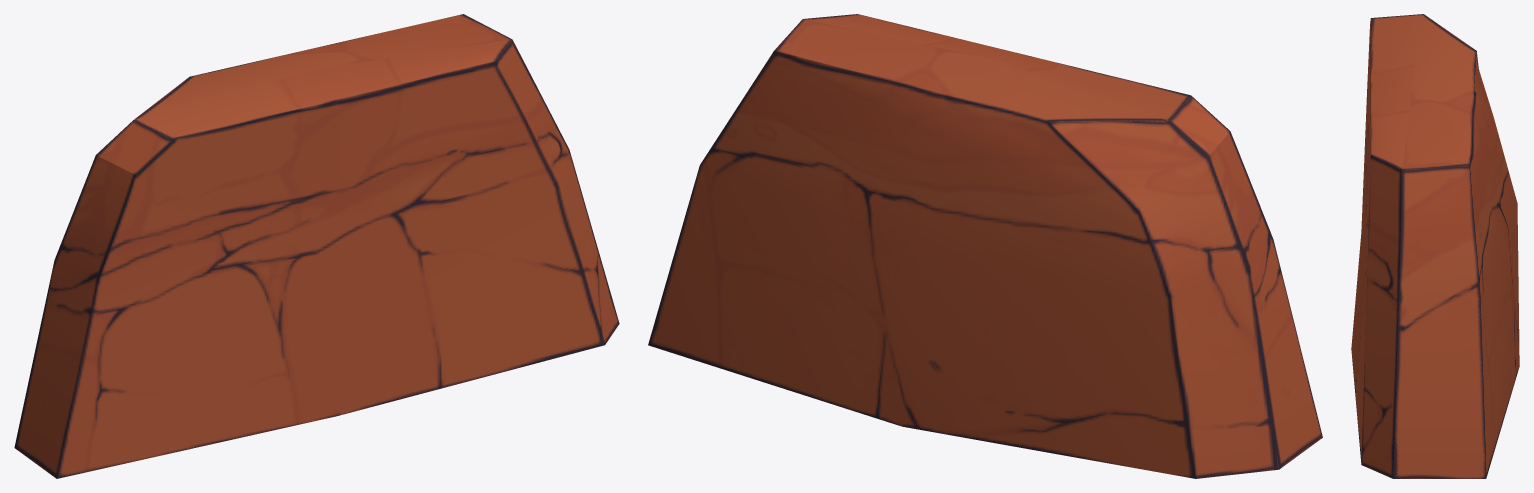
Rendered from SmallWall_3.fbx.
3 renders of one model, left to right at view 1: azimuth 30°, elevation 25°; view 2: azimuth 150°, elevation 25°; view 3: azimuth 270°, elevation 25°, orthographic. The views are drawn at different scales.
Visible parts, largest first — view 1: Wall_4; view 2: Wall_4; view 3: Wall_4.
Part boxes in pixels (bbox=[...]): Wall_4: bbox=[14, 14, 619, 478]; Wall_4: bbox=[648, 14, 1322, 478]; Wall_4: bbox=[1351, 14, 1519, 478].
Bounding box in the file's own units: 598 × 172 × 312.
